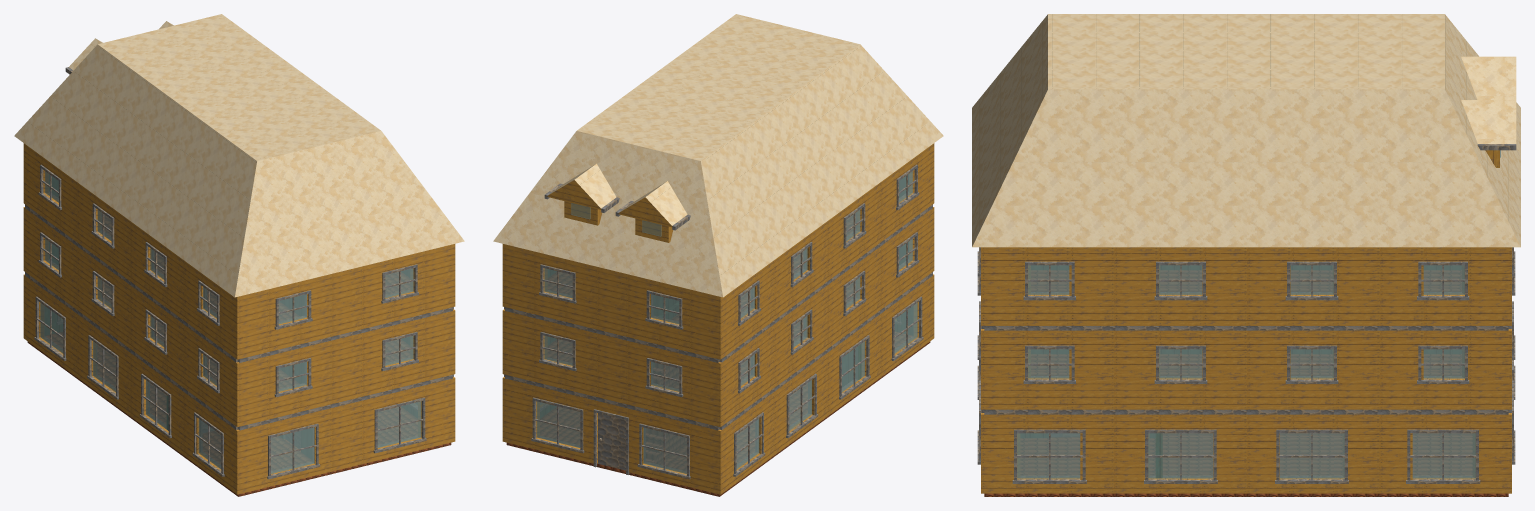
Rendered from market-terrace.gltf.
3 renders of one model, left to right at view 1: azimuth 30°, elevation 25°; view 2: azimuth 150°, elevation 25°; view 3: azimuth 270°, elevation 25°, orthographic. The views are drawn at different scales.
Visible parts, largest first — view 1: roof-L2-green-metal, exterior-L1-brick, exterior-L2-brick, exterior-L0-brick, glazing-L0-glass, trim-L0-dark-wood, floor-L0-floor, trim-L2-dark-wood, trim-L1-dark-wood, glazing-L1-glass, glazing-L2-glass, exterior-L1-dark-wood (+3 smaller); view 2: roof-L2-green-metal, exterior-L1-brick, exterior-L2-brick, exterior-L0-brick, glazing-L0-glass, trim-L0-dark-wood, floor-L0-floor, trim-L2-dark-wood, trim-L1-dark-wood, glazing-L1-glass, glazing-L2-glass, roof-L2-brick (+7 smaller); view 3: roof-L2-green-metal, exterior-L1-brick, exterior-L2-brick, exterior-L0-brick, glazing-L0-glass, floor-L0-floor, trim-L0-dark-wood, glazing-L1-glass, glazing-L2-glass, trim-L1-dark-wood, trim-L2-dark-wood, exterior-L0-dark-wood (+5 smaller).
Part boxes in pixels (box(x1,y1,x2,y2)): roof-L2-green-metal: box(14, 14, 464, 297); exterior-L1-brick: box(23, 207, 455, 426); exterior-L2-brick: box(23, 143, 455, 359); exterior-L0-brick: box(23, 274, 455, 494); glazing-L0-glass: box(40, 303, 421, 473); trim-L0-dark-wood: box(34, 296, 426, 479); floor-L0-floor: box(27, 332, 451, 496); trim-L2-dark-wood: box(38, 164, 418, 329); trim-L1-dark-wood: box(38, 232, 418, 397); glazing-L1-glass: box(45, 239, 413, 391); glazing-L2-glass: box(45, 171, 413, 324); exterior-L1-dark-wood: box(25, 204, 453, 362); roof-L2-green-metal: box(493, 14, 943, 297); exterior-L1-brick: box(502, 207, 934, 426); exterior-L2-brick: box(502, 143, 934, 359); exterior-L0-brick: box(502, 274, 934, 494); glazing-L0-glass: box(536, 303, 917, 473); trim-L0-dark-wood: box(531, 296, 923, 479); floor-L0-floor: box(506, 332, 930, 496); trim-L2-dark-wood: box(539, 164, 919, 329); trim-L1-dark-wood: box(539, 232, 919, 397); glazing-L1-glass: box(544, 239, 912, 391); glazing-L2-glass: box(544, 171, 912, 324); roof-L2-brick: box(546, 180, 672, 227); roof-L2-green-metal: box(972, 14, 1520, 247); exterior-L1-brick: box(981, 329, 1511, 409); exterior-L2-brick: box(981, 247, 1511, 325); exterior-L0-brick: box(981, 413, 1511, 493); glazing-L0-glass: box(1017, 433, 1475, 478); floor-L0-floor: box(984, 434, 1508, 496); trim-L0-dark-wood: box(977, 360, 1515, 483); glazing-L1-glass: box(1028, 349, 1464, 378); glazing-L2-glass: box(1028, 265, 1464, 294); trim-L1-dark-wood: box(977, 276, 1515, 383); trim-L2-dark-wood: box(977, 247, 1515, 300); exterior-L0-dark-wood: box(981, 409, 1511, 414).
Bounding box in the file's own units: 7.56 × 9.62 × 12.56.
8 materials, 7 textured.
